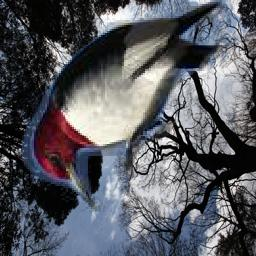Woodpecker: (20, 0, 232, 212)
